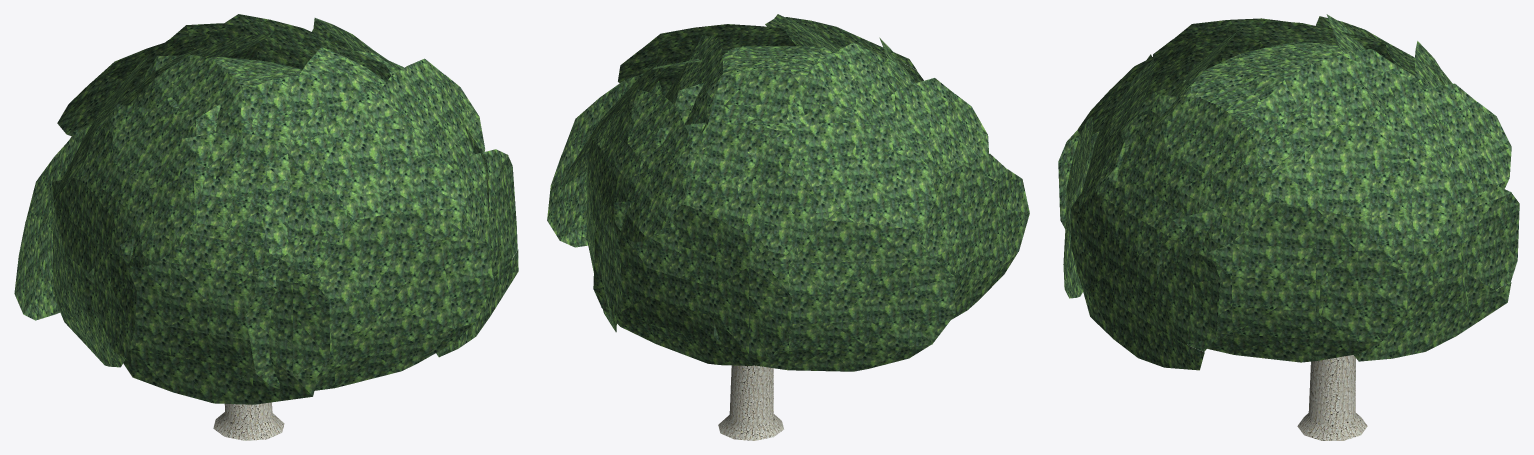
Rendered from Tree.dae.
3 renders of one model, left to right at view 1: azimuth 30°, elevation 25°; view 2: azimuth 150°, elevation 25°; view 3: azimuth 270°, elevation 25°, orthographic. The views are drawn at different scales.
Parts seen in each view (by area): view 1: group_0 (×40), tree_trunck4; view 2: group_0 (×33), tree_trunck4; view 3: group_0 (×36), tree_trunck4.
Boxes of the visible parts, x1,y1,x2,y2 form: group_0 (×40): (14,14,518,404); tree_trunck4: (213,402,284,440); group_0 (×33): (547,17,1029,371); tree_trunck4: (718,365,783,440); group_0 (×36): (1058,14,1519,370); tree_trunck4: (1297,355,1367,440).
Bounding box in the file's own units: 86.03 × 81.63 × 75.
Materials: 3 (2 with a texture image).
